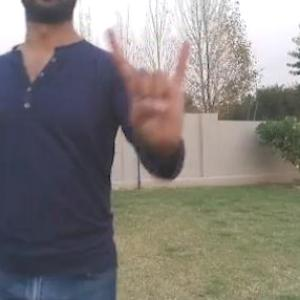takeoff-hand: (103, 22, 196, 157)
